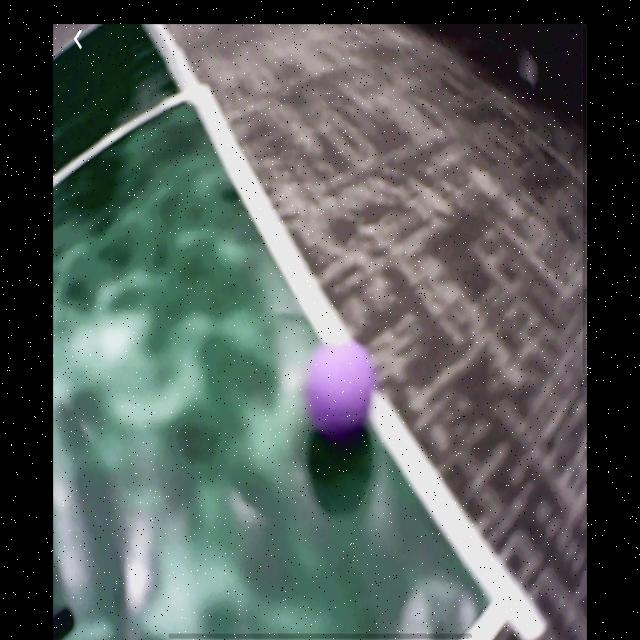ball: (305, 339, 376, 439)
